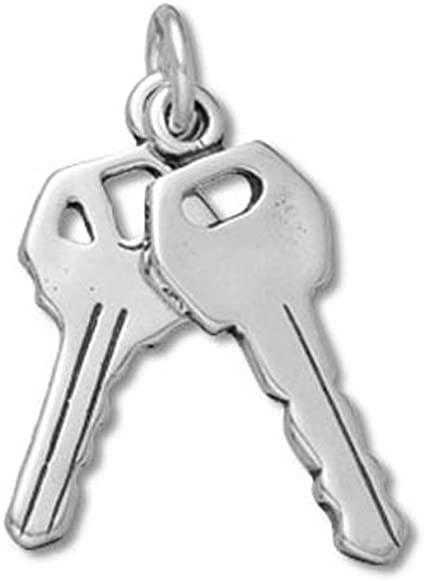key: (3, 139, 410, 565)
